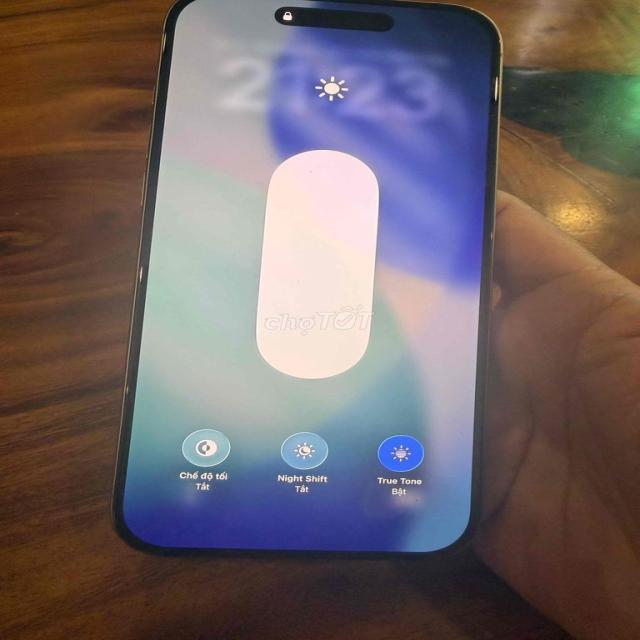gen_16: (113, 0, 502, 558)
